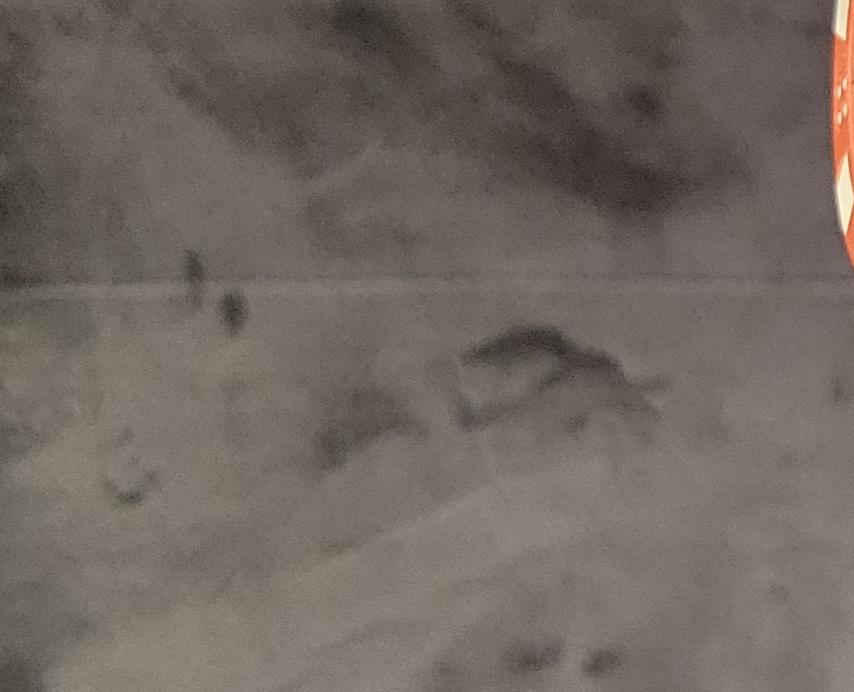Chip: (1, 413, 478, 692)
